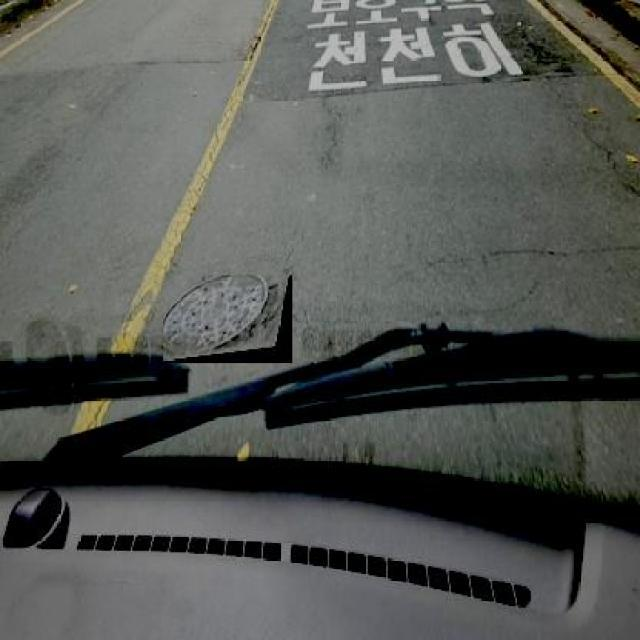Manhole: (162, 275, 293, 363)
Pothole: (510, 12, 578, 86)
